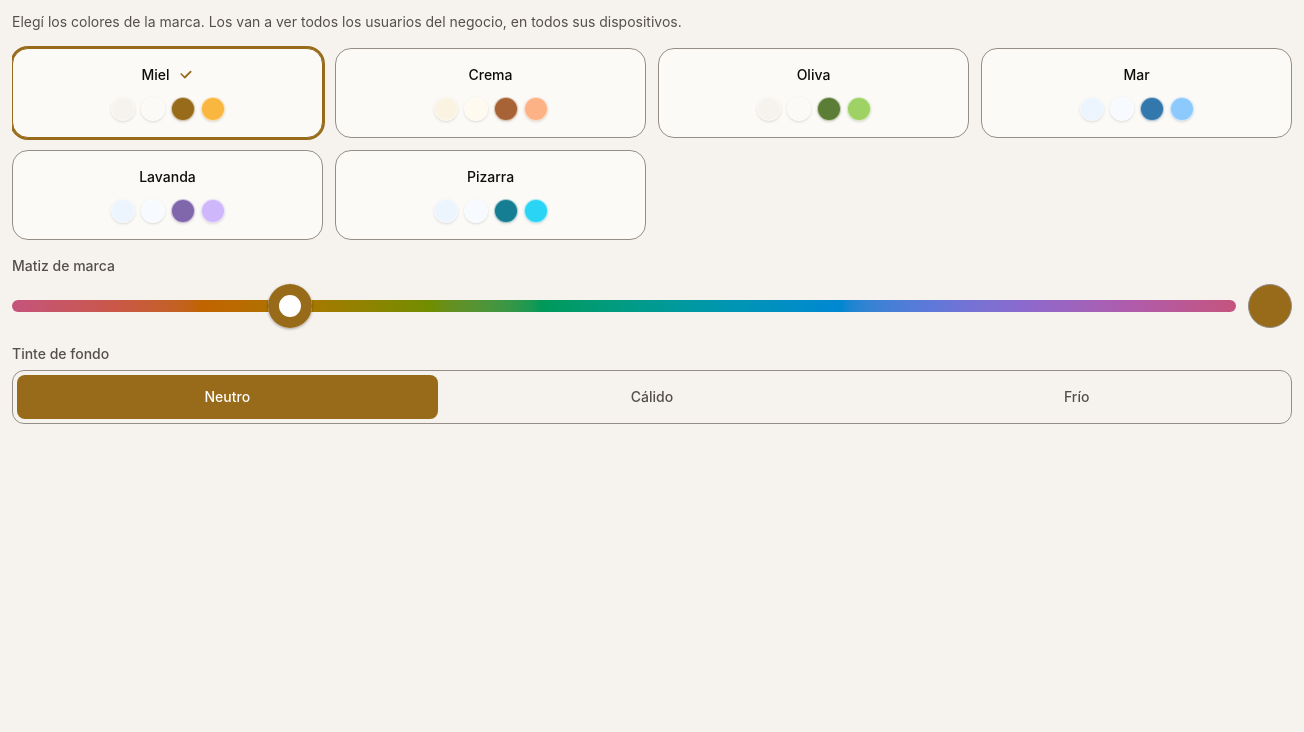
it: SeccionColoresNegocio › mover el slider de matiz a un valor que no coincide con ningún preset: ningún radio queda marcado y aparece "Personalizado"
Expected: the text "Personalizado" is not shown
Note: 17° no coincide con ningún preset de PRESETS_TEMA (78/52/130/245/300/215).
Set the slider labelled "Matiz de marca" to "17" at (77, 306), box [12, 284, 1236, 328]
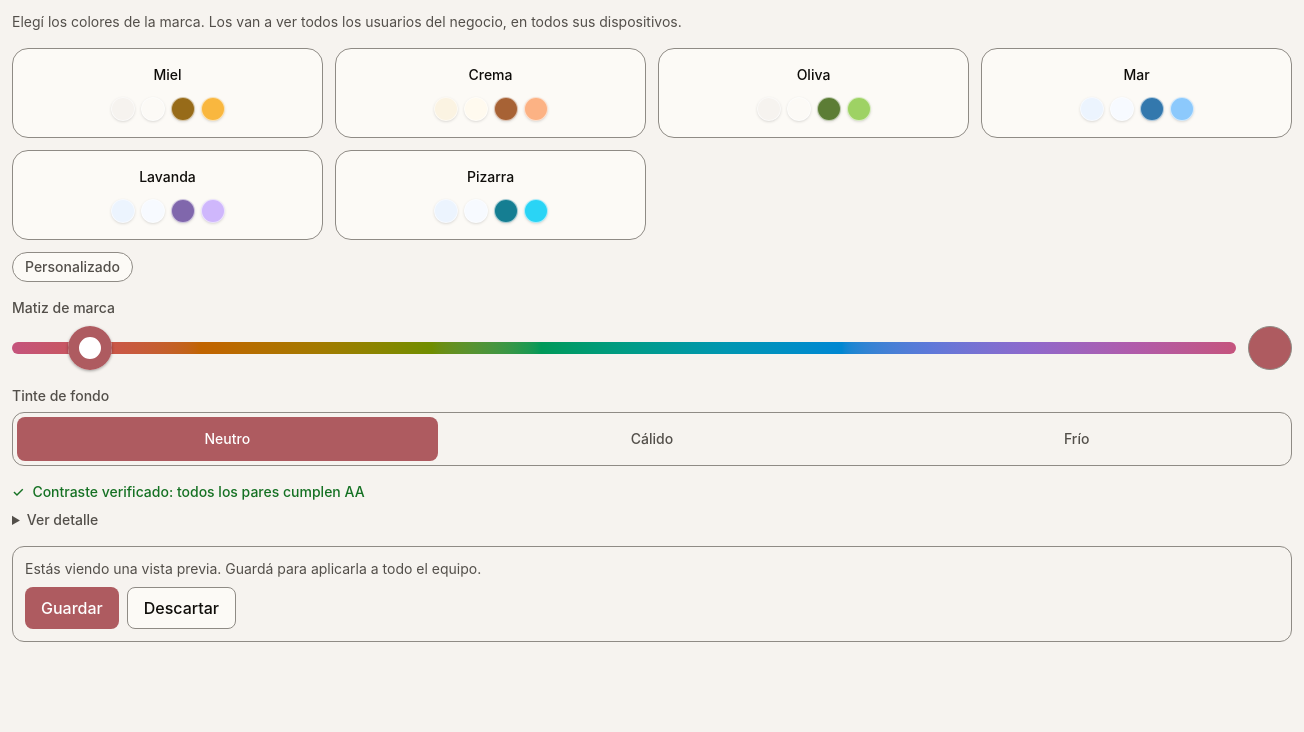
Now the text "Personalizado" is shown, box [12, 252, 133, 282]
Now the button "Guardar" is shown, box [25, 587, 119, 629]
